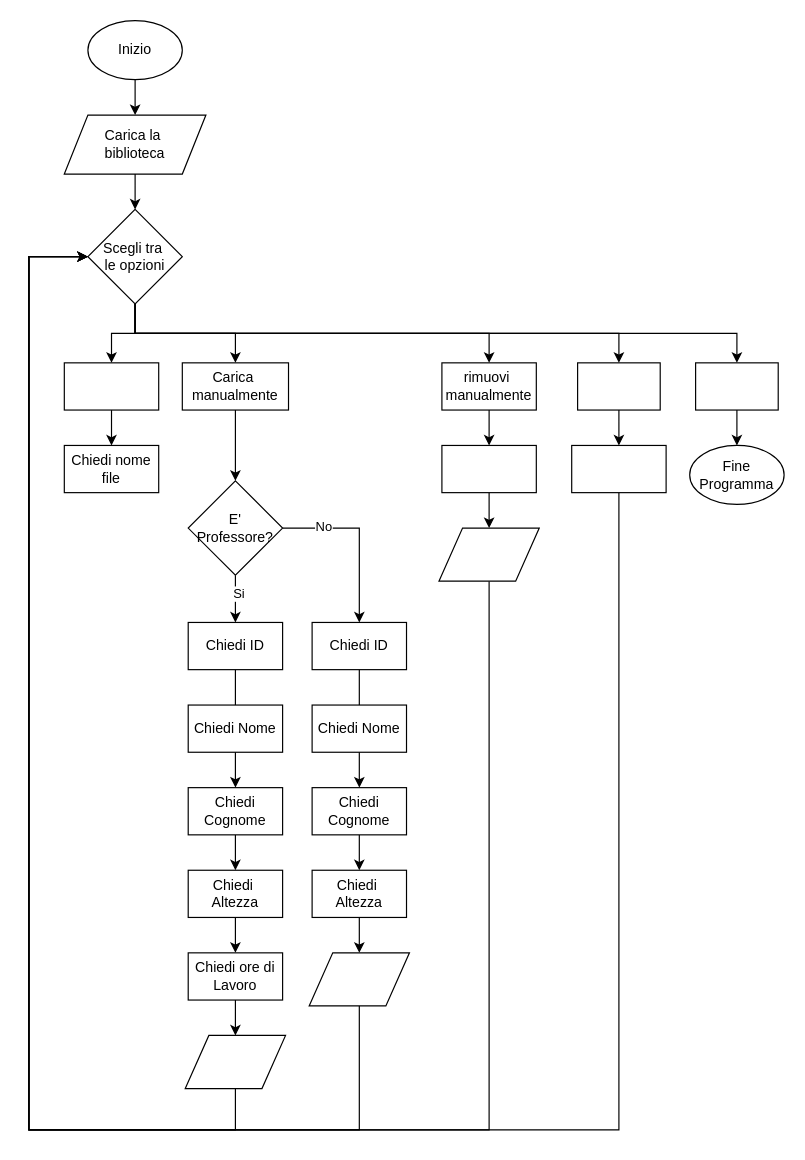
This 805x1160 diagram has some shape labels left out. Here are the shapes that lost their labels. From the top down, the box of each, then its label:
(63, 362, 159, 410): Carica da File
(576, 362, 660, 410): Stampa Tutto
(694, 362, 778, 410): Esci
(441, 444, 536, 493): Chiedi Dato
(571, 444, 666, 493): Stampa tutto a schermo
(438, 527, 539, 581): Elimina Entry
(308, 952, 409, 1006): Salva Studente
(184, 1034, 286, 1089): Salva Professore
